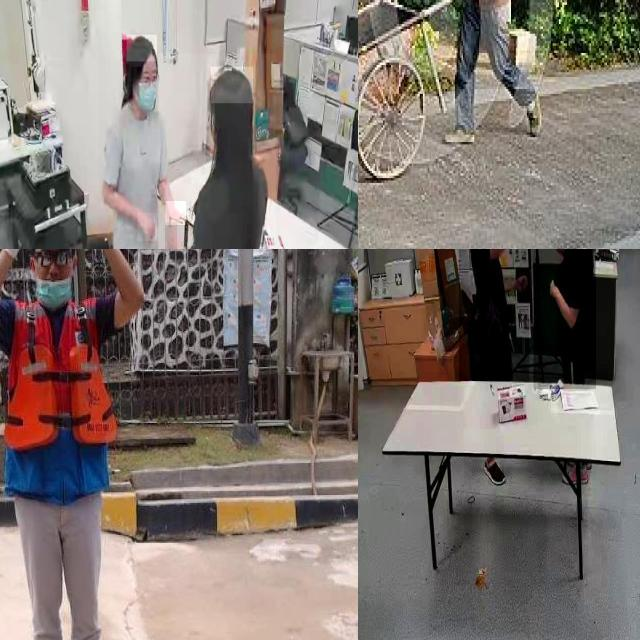face_mask: (131, 67, 159, 115)
hand_noglove: (138, 212, 158, 242), (166, 201, 187, 226), (164, 222, 177, 249), (515, 272, 529, 291), (548, 277, 558, 297)
head_nohelmet: (211, 67, 253, 104), (126, 35, 158, 62)
person: (0, 249, 156, 640), (157, 53, 276, 249), (98, 32, 173, 249), (459, 249, 530, 382), (533, 249, 596, 390)
shoes: (482, 457, 506, 492)
vest: (1, 297, 114, 492)
